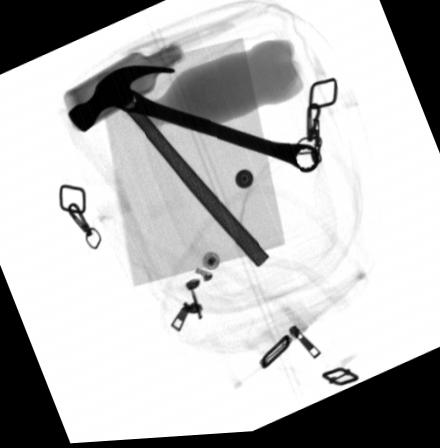Hammer: (68, 64, 269, 271)
Wrench: (115, 88, 321, 176)
